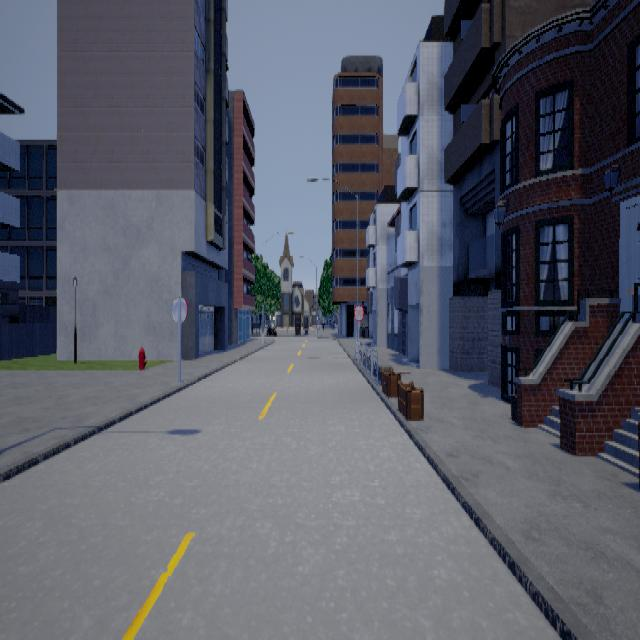traffic_sign: (353, 303, 363, 320)
